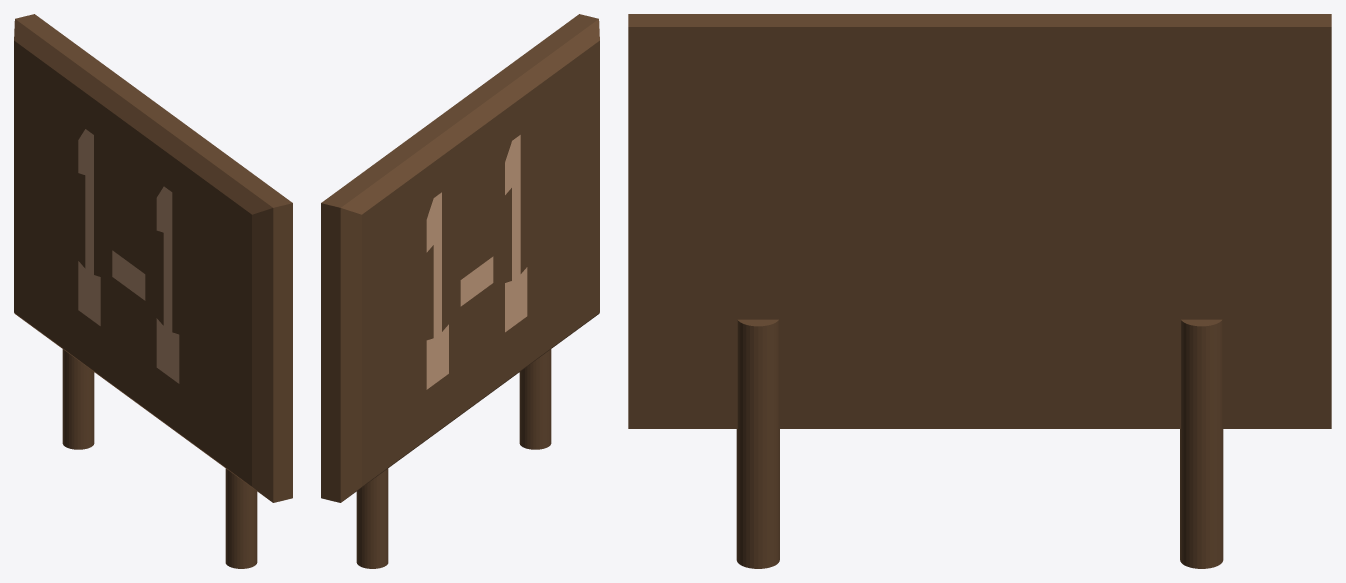
3 views of the same model, side by side, from view 1: azimuth 30°, elevation 25°; view 2: azimuth 150°, elevation 25°; view 3: azimuth 270°, elevation 25° (orthographic). The views are drawn at different scales.
Parts seen in each view (by area): view 1: Cube.007, Text, Cylinder, Cylinder.001; view 2: Cube.007, Text, Cylinder.001, Cylinder; view 3: Cube.007, Cylinder, Cylinder.001.
Part boxes in pixels (bbox=[...]): Cube.007: bbox=[14, 14, 292, 502]; Text: bbox=[78, 129, 179, 383]; Cylinder: bbox=[62, 349, 94, 449]; Cylinder.001: bbox=[225, 468, 257, 568]; Cube.007: bbox=[321, 14, 599, 502]; Text: bbox=[426, 135, 527, 389]; Cylinder.001: bbox=[519, 349, 551, 449]; Cylinder: bbox=[356, 468, 388, 568]; Cube.007: bbox=[628, 14, 1331, 428]; Cylinder: bbox=[1180, 319, 1223, 568]; Cylinder.001: bbox=[736, 319, 779, 568].
Bounding box in the file's own units: 28.97 × 266 × 317.
